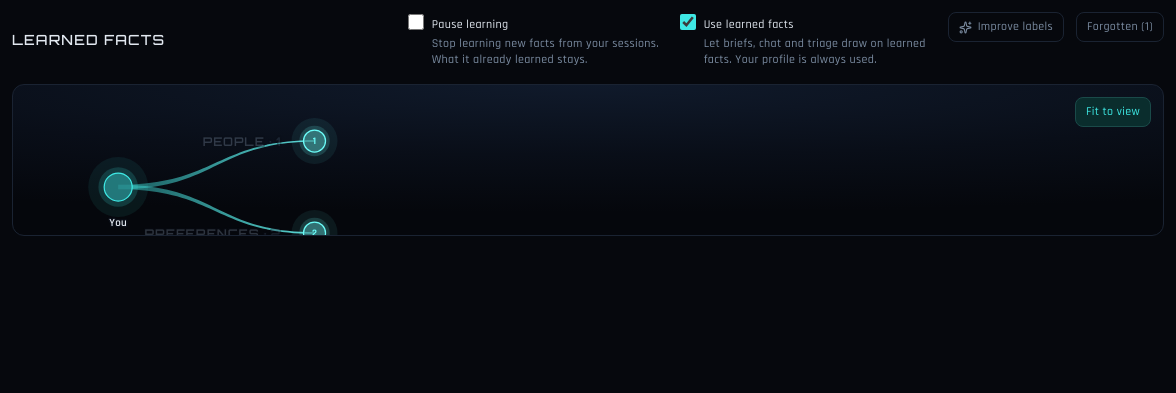
TwinMemoryGraph — Forgotten (N) › counts the forgotten facts, opens the list, and a restore puts the fact back on the canvas
Click the button "Forgotten (1)" at coordinates (1120, 27), box [1076, 12, 1164, 42]
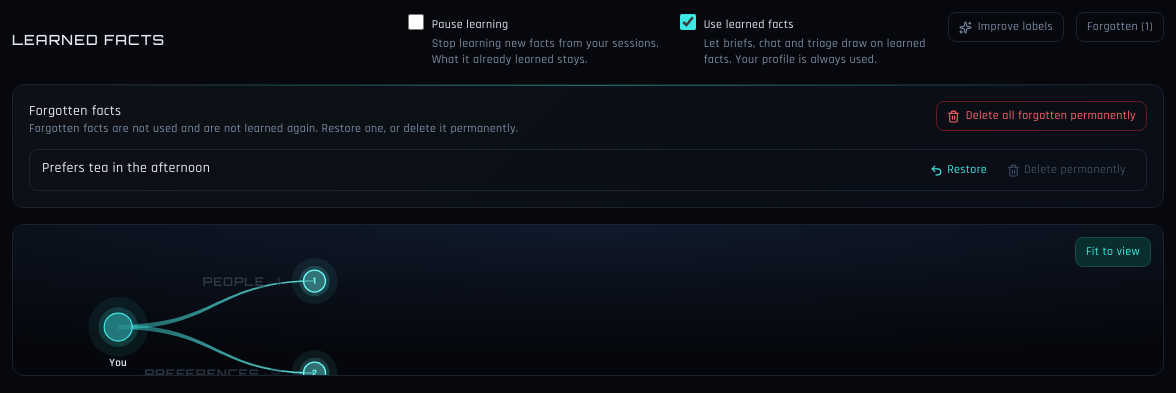
Check: the text "Prefers tea in the afternoon" is shown, box [42, 159, 210, 177]
Click the button with aria-label "Restore:" at coordinates (959, 170), box [922, 158, 995, 182]
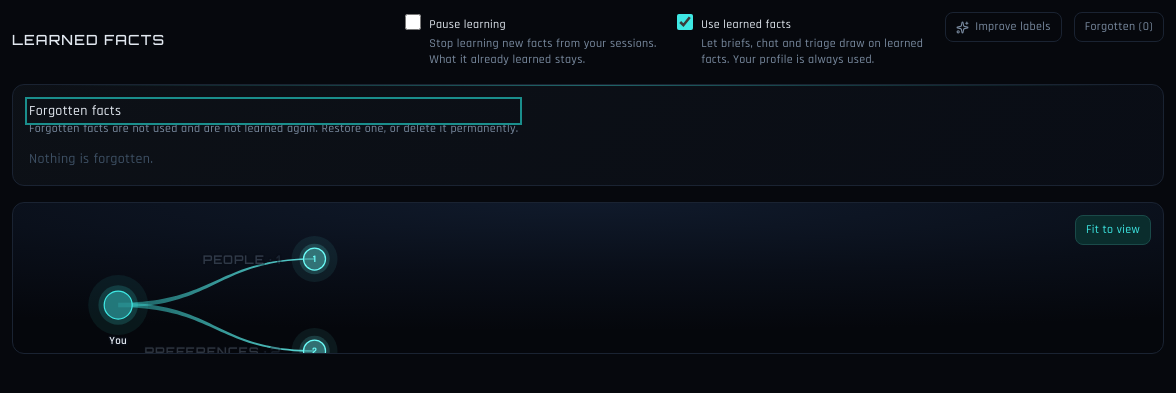
Check: the button "Forgotten (0)" is shown, box [1074, 12, 1164, 42]
